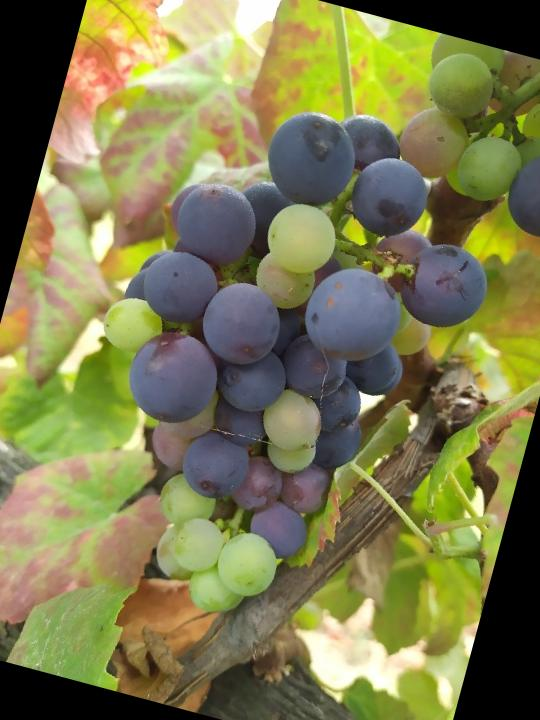grape: (35, 61, 527, 664)
